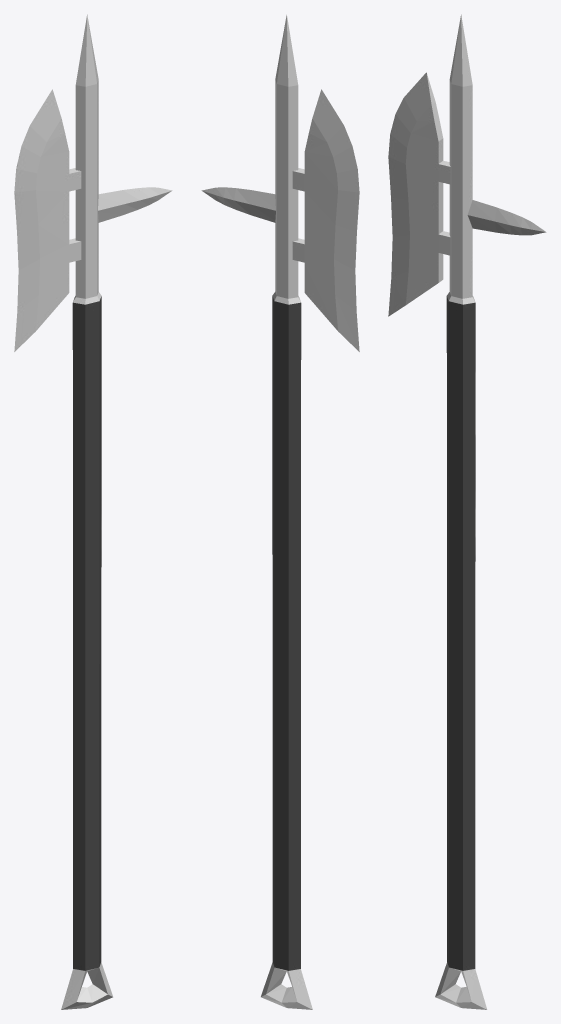
File: steel-halberd.obj
3 views of the same model, side by side, from view 1: azimuth 30°, elevation 25°; view 2: azimuth 150°, elevation 25°; view 3: azimuth 330°, elevation 25° (orthographic).
Parts seen in each view (by area): view 1: Mesh_Mesh_KingdomPolearm_C; view 2: Mesh_Mesh_KingdomPolearm_C; view 3: Mesh_Mesh_KingdomPolearm_C.
Part boxes in pixels (x1,y1,x2,y2): Mesh_Mesh_KingdomPolearm_C: (14,14,172,1009); Mesh_Mesh_KingdomPolearm_C: (201,14,359,1009); Mesh_Mesh_KingdomPolearm_C: (388,14,546,1009).
Bounding box in the file's own units: 0.4217 × 2.53 × 0.0485.
Materials: 2 (2 with a texture image).
